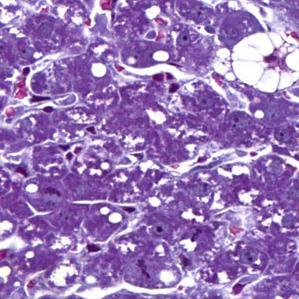ballooning: (228, 31, 297, 95)
